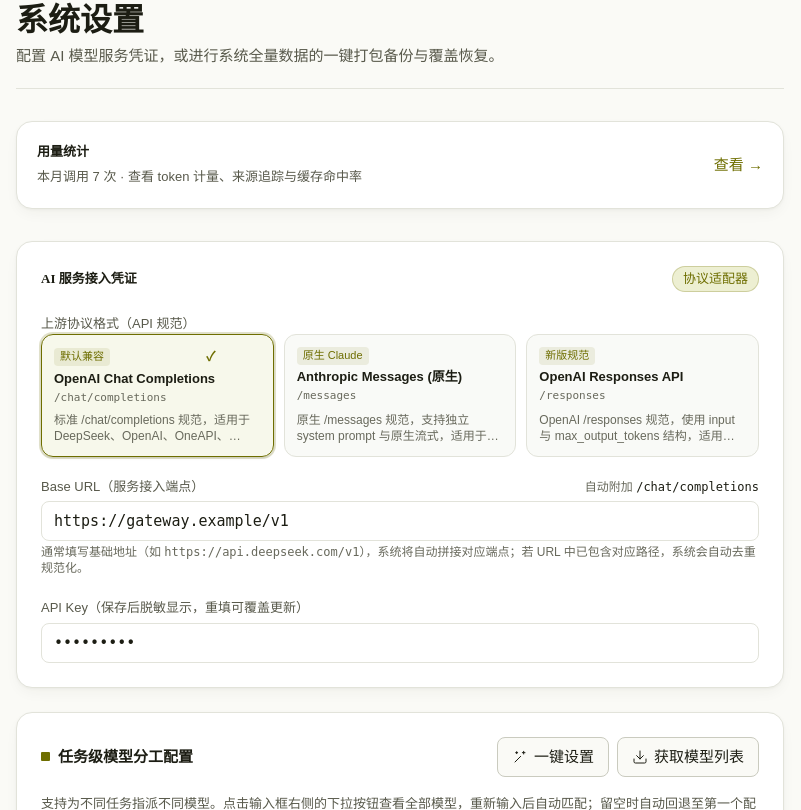
Scenario: 设置页配置与连接行为 › 测试连接 失败后保留输入并恢复操作按钮
The image size is (801, 810).
Step 1. Type "keep-unsaved-key" into the password field with placeholder "sk-…" → (400, 643), box 41,623 -> 759,663
(page scrolled)
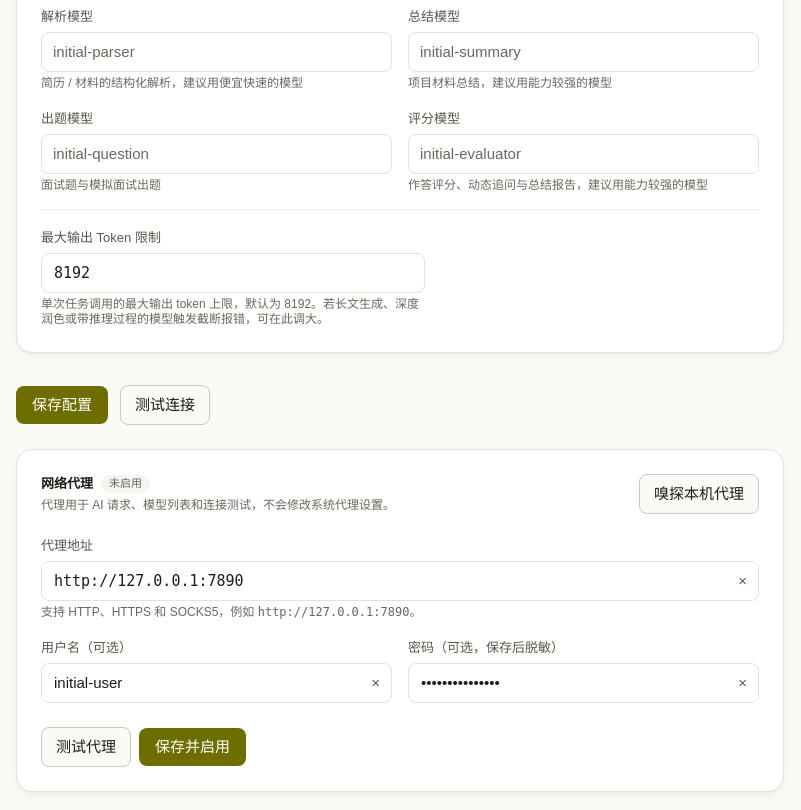
Step 2. Click the button "测试连接" → (165, 405), box 120,385 -> 210,425
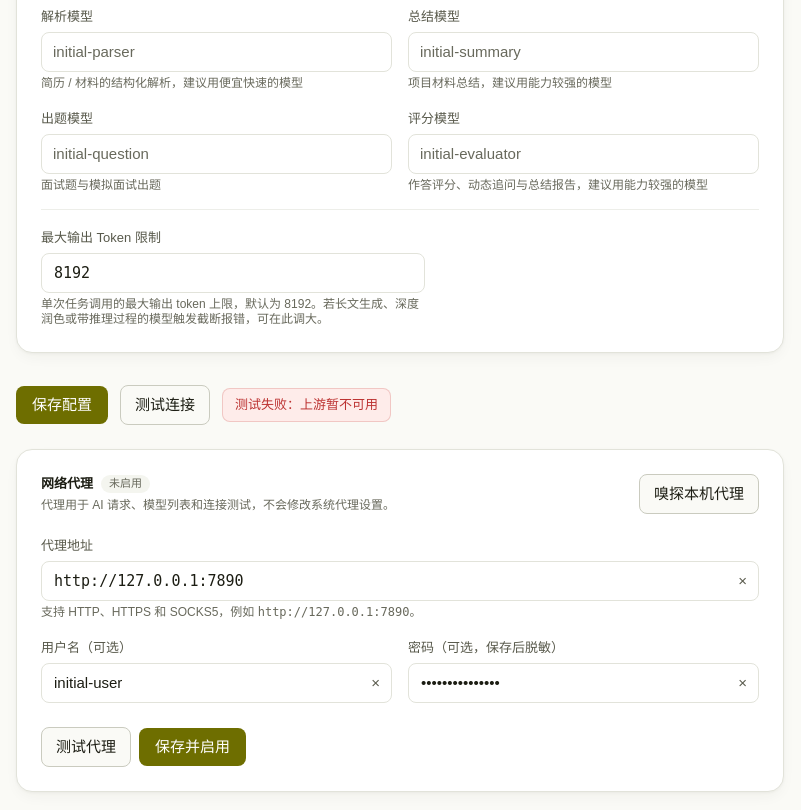
Check: the text "测试失败：上游暂不可用" is shown, box 222,388 -> 391,422
